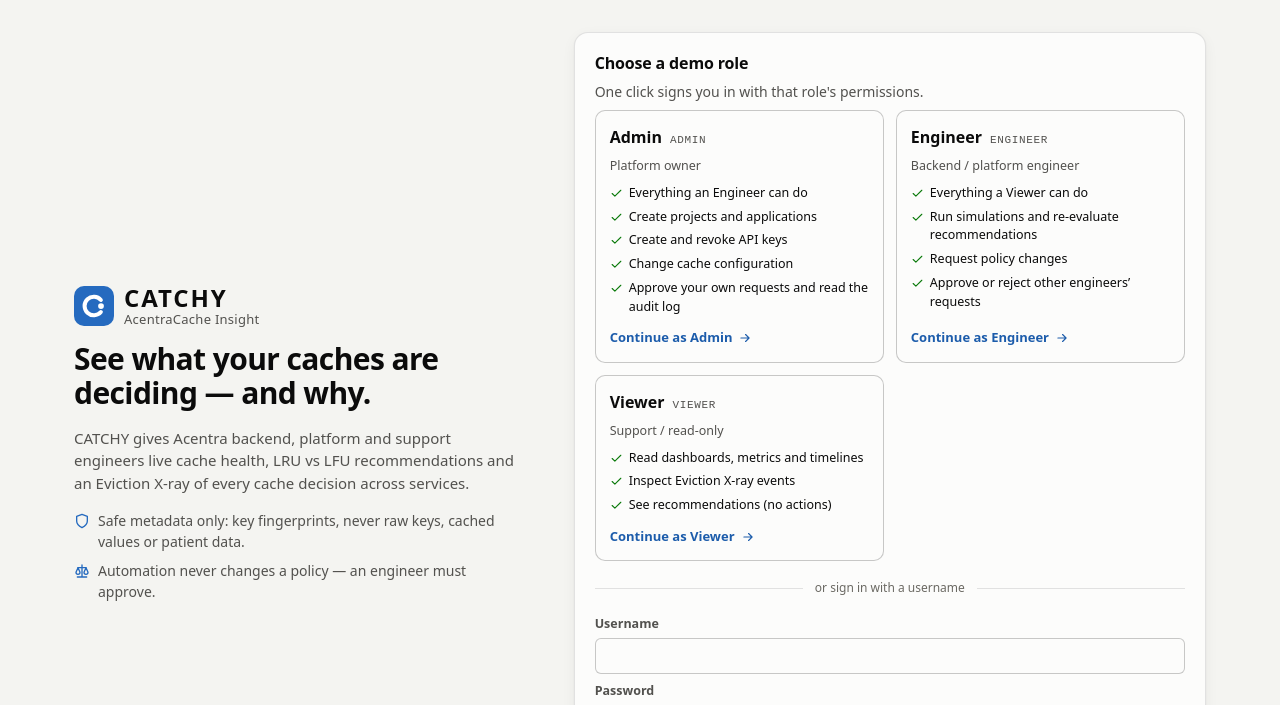
Test: LoginPage: demo role flow (mock API) › tells the user demo mode is off when demo-login answers 404
Click the button with aria-label "Continue as ADMIN": (739, 236) [595,110,884,363]
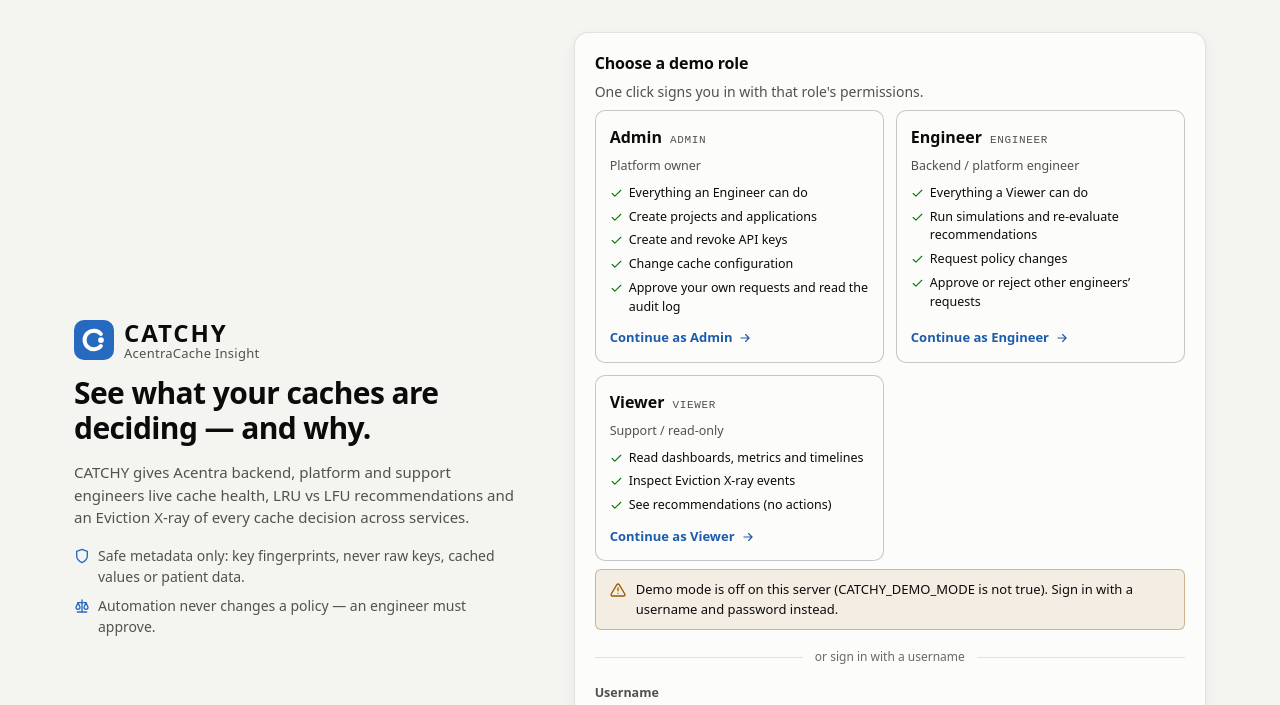
Expected: the text "Demo mode is off on this server" is shown, [636,580,1133,618]
